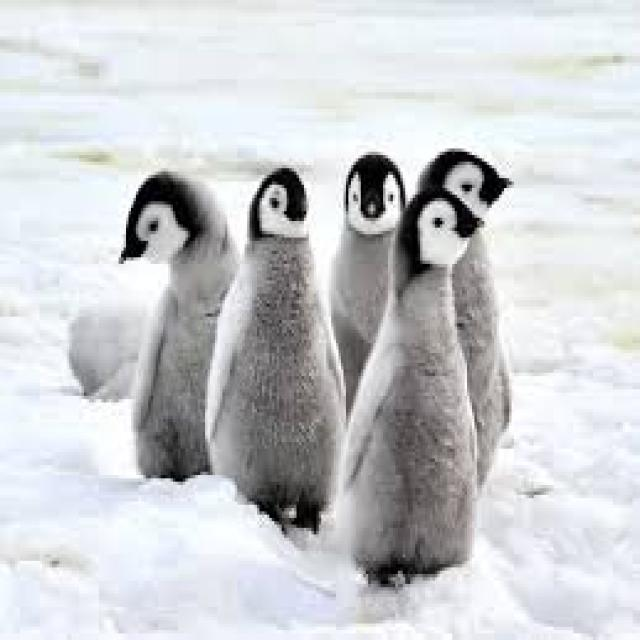penguin: (336, 181, 477, 577), (205, 165, 341, 525), (121, 172, 235, 478), (329, 152, 403, 406), (452, 228, 509, 482), (418, 148, 509, 228)
